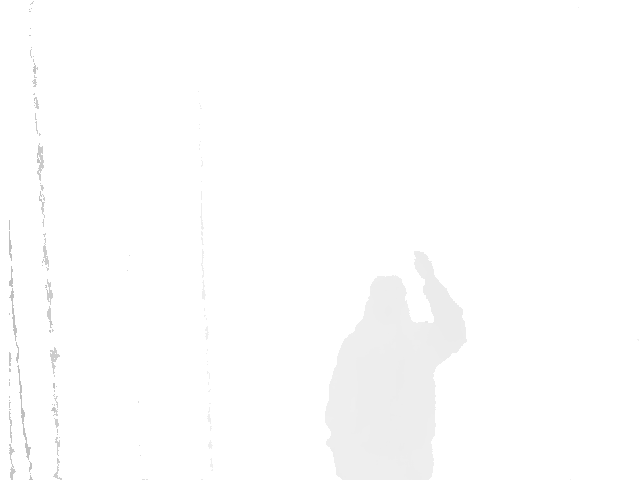hand: (410, 246, 440, 298)
head: (364, 273, 410, 334)
person: (323, 247, 467, 480)
